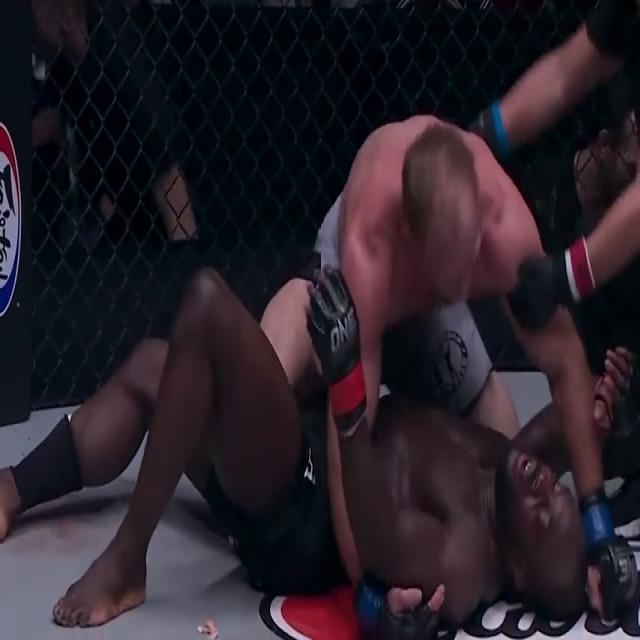fight: (1, 73, 639, 639)
